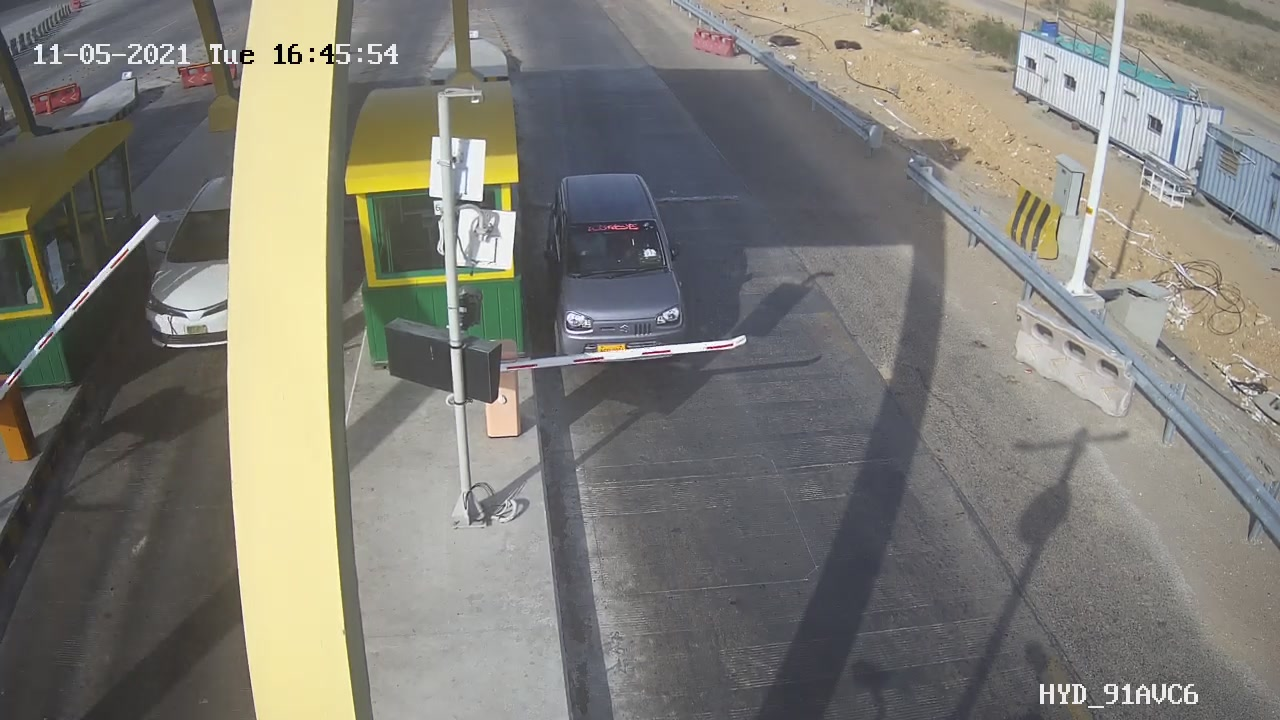F1: (521, 160, 708, 377)
